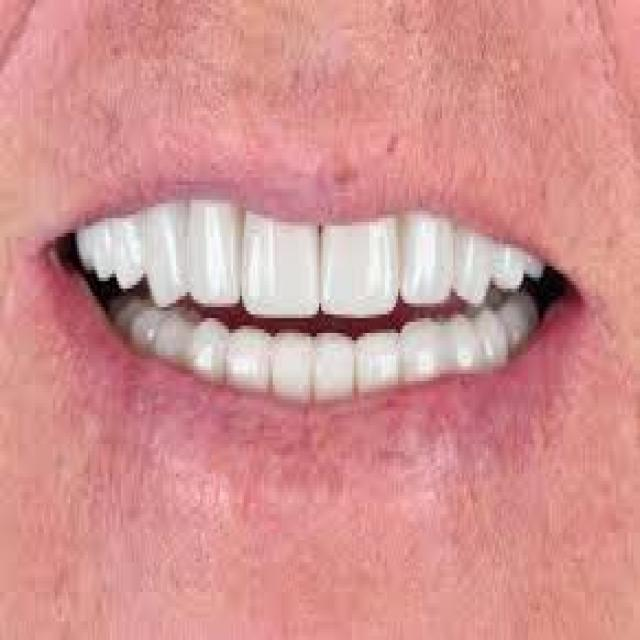tooth: (244, 200, 321, 322), (321, 215, 398, 318), (185, 192, 246, 311), (402, 207, 456, 315), (143, 200, 191, 307), (354, 318, 405, 392), (460, 211, 497, 311), (110, 196, 145, 300), (404, 318, 458, 385), (224, 310, 270, 384), (273, 318, 312, 400), (312, 326, 354, 400), (189, 307, 227, 377), (158, 300, 189, 358), (458, 311, 490, 366), (497, 237, 526, 296), (484, 304, 508, 362), (136, 300, 156, 348)
